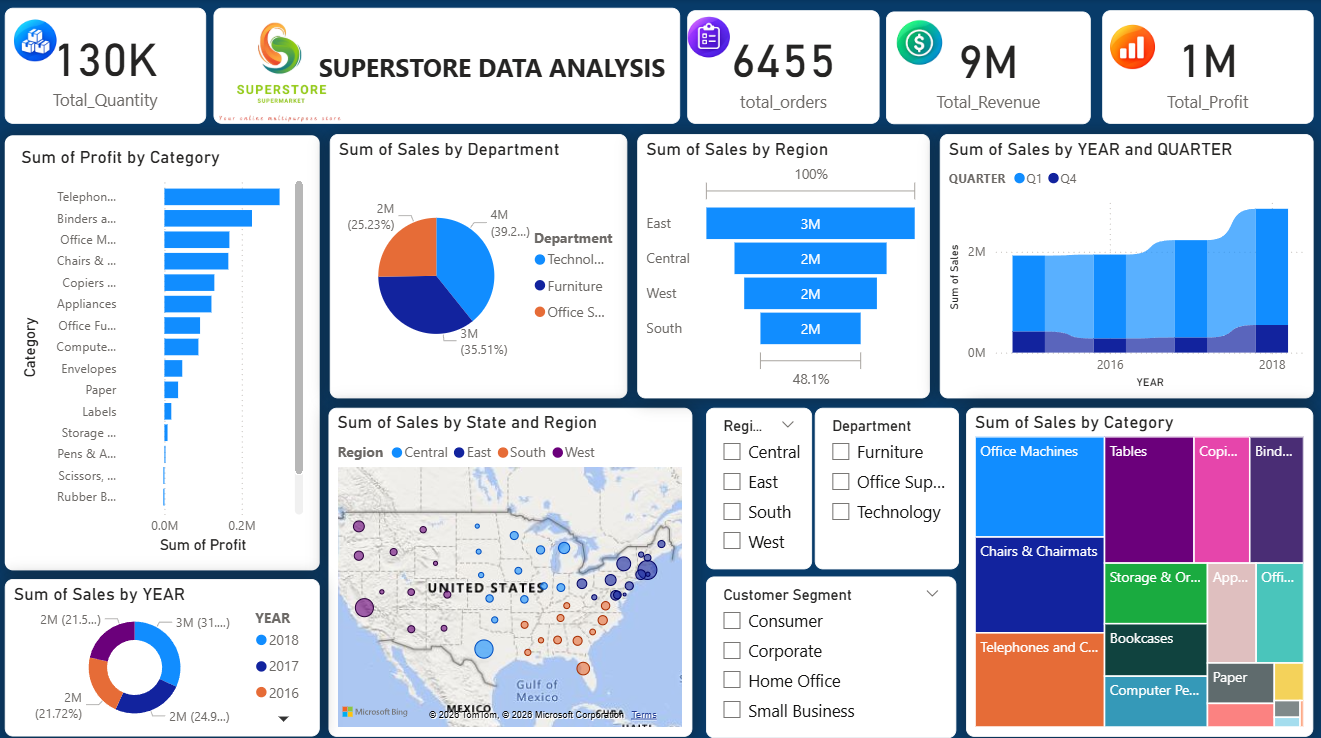

This screenshot's page, from the dashboard's own definition file:
{"tool":"powerbi","page":{"name":"Superstore Dashboard","canvas":[1280,720],"ordinal":10},"visuals":[{"type":"barChart","fields":{"Category":["Superstore (1).Category"],"Y":["Sum(Superstore (1).Profit)"]},"box":[8.4,131.5,304,419.8],"z":0},{"type":"pieChart","fields":{"Y":["Sum(Superstore (1).Sales)"],"Category":["Superstore (1).Department"]},"box":[322.1,130,287.1,255],"z":1000},{"type":"map","fields":{"Size":["Sum(Superstore (1).Sales)"],"Category":["Superstore (1).State"],"Series":["Superstore (1).Region"]},"box":[320.9,394.5,351.1,317.3],"z":2000},{"type":"funnel","fields":{"Category":["Superstore (1).Region"],"Y":["Sum(Superstore (1).Sales)"]},"box":[618.8,130,282,255],"z":3000},{"type":"donutChart","fields":{"Y":["Sum(Superstore (1).Sales)"],"Category":["Calender.YEAR"]},"box":[8.4,559.8,304,152],"z":4000},{"type":"ribbonChart","fields":{"Y":["Sum(Superstore (1).Sales)"],"Category":["Calender.YEAR"],"Series":["Calender.QUARTER"]},"box":[911,130,361,255],"z":5000},{"type":"treemap","fields":{"Values":["Sum(Superstore (1).Sales)"],"Group":["Superstore (1).Category"]},"box":[936.2,394.5,335,317.3],"z":6000},{"type":"card","fields":{"Values":["Superstore (1).Total_Revenue"]},"box":[859,12.1,197.9,108.6],"z":7000},{"type":"card","fields":{"Values":["Superstore (1).Total_Profit"]},"box":[1067.7,10.9,204,109.8],"z":8000},{"type":"card","fields":{"Values":["Superstore (1).total_orders"]},"box":[667.2,10.9,185.8,109.8],"z":9000},{"type":"slicer","fields":{"Values":["Superstore (1).Department"]},"box":[790,395,139,156.2],"z":10000},{"type":"slicer","fields":{"Values":["Superstore (1).Customer Segment"]},"box":[685.3,557.4,241.3,155.6],"z":11000},{"type":"slicer","fields":{"Values":["Superstore (1).Region"]},"box":[685,395,102,156.2],"z":12000},{"type":"textbox","box":[209.9,8.4,450,112.2],"z":13000},{"type":"card","fields":{"Values":["Superstore (1).Total_Quantity"]},"box":[8.4,8.4,194,112],"z":14000},{"type":"image","box":[8.4,8.4,68.8,66.4],"z":15000},{"type":"image","box":[849.3,4.8,77.2,74.8],"z":16000},{"type":"image","box":[1067.7,8.4,71.2,74.8],"z":17000},{"type":"image","box":[649.1,0,73.6,74.8],"z":18000},{"type":"image","box":[202.7,0,142.4,144.8],"z":19000}]}

Visuals, with their boxes in screenshot pixels (x1, y1, x2, y2), scaled from the page's 1280x720 canvas onto the 1321x738 screenshot:
barChart - Superstore (1).Category x Sum(Superstore (1).Profit): box=[9, 135, 322, 565]
pieChart - Sum(Superstore (1).Sales) x Superstore (1).Department: box=[332, 133, 629, 395]
map - Sum(Superstore (1).Sales) x Superstore (1).State: box=[331, 404, 694, 730]
funnel - Superstore (1).Region x Sum(Superstore (1).Sales): box=[639, 133, 930, 395]
donutChart - Sum(Superstore (1).Sales) x Calender.YEAR: box=[9, 574, 322, 730]
ribbonChart - Sum(Superstore (1).Sales) x Calender.YEAR: box=[940, 133, 1313, 395]
treemap - Sum(Superstore (1).Sales) x Superstore (1).Category: box=[966, 404, 1312, 730]
card - Superstore (1).Total_Revenue: box=[887, 12, 1091, 124]
card - Superstore (1).Total_Profit: box=[1102, 11, 1312, 124]
card - Superstore (1).total_orders: box=[689, 11, 880, 124]
slicer - Superstore (1).Department: box=[815, 405, 959, 565]
slicer - Superstore (1).Customer Segment: box=[707, 571, 956, 731]
slicer - Superstore (1).Region: box=[707, 405, 812, 565]
textbox: box=[217, 9, 681, 124]
card - Superstore (1).Total_Quantity: box=[9, 9, 209, 123]
image: box=[9, 9, 80, 77]
image: box=[877, 5, 956, 82]
image: box=[1102, 9, 1175, 85]
image: box=[670, 0, 746, 77]
image: box=[209, 0, 356, 148]
